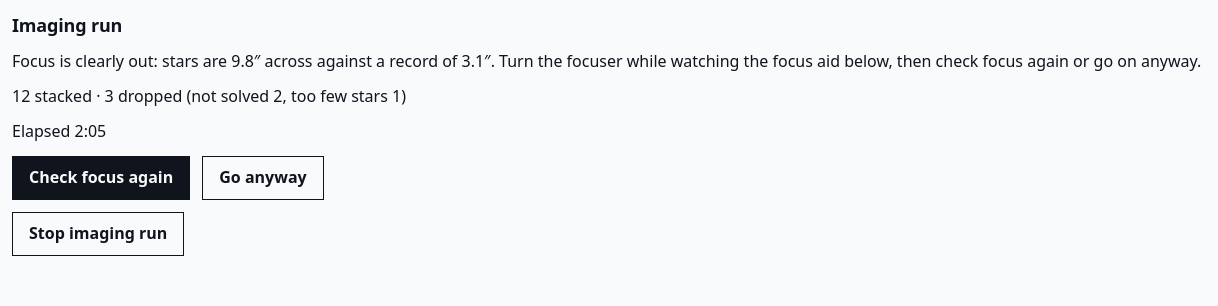
Test: US9-S10: a pause request's own alert and pending buttons › clears refusal when Go anyway starts, disables all buttons and reports no answer in its own words
Later steps or results of the test are not shown.
Click the button "Check focus again". click: (101, 178)
box: top-left (12, 156), bottom-right (190, 200)
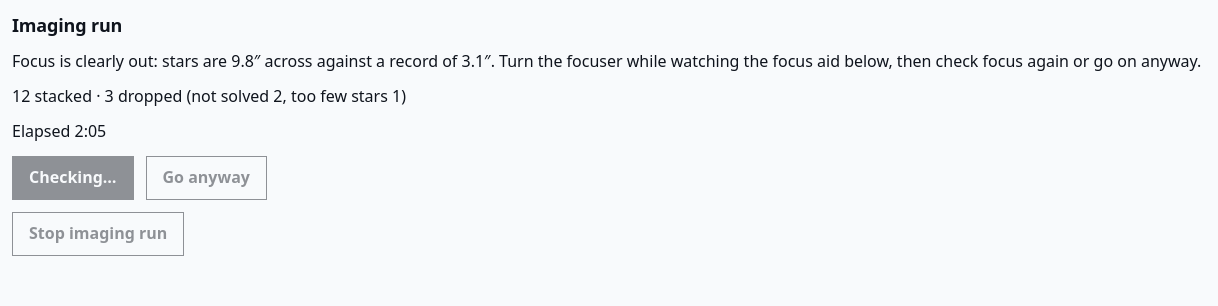
Result: the button "Checking…" is disabled at top-left (12, 156), bottom-right (134, 200)
Result: the button "Go anyway" is disabled
Result: the button "Stop imaging run" is disabled at top-left (12, 212), bottom-right (184, 256)
Click the button "Go anyway". click: (206, 178)
box: top-left (146, 156), bottom-right (267, 200)
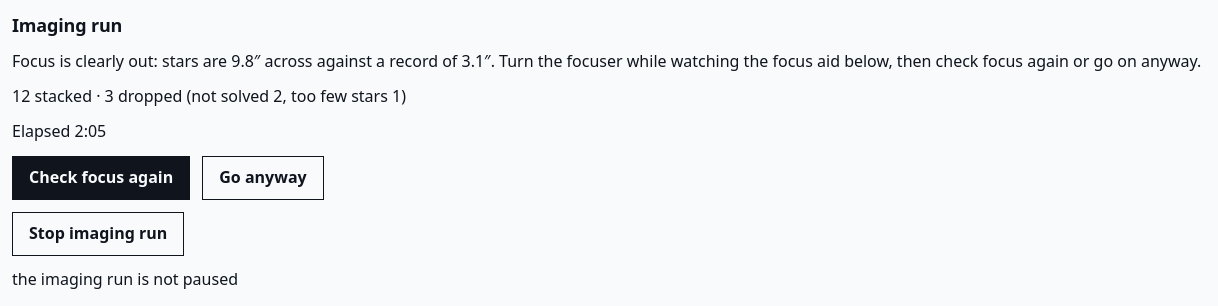
Result: the messages read "Focus is clearly out: stars are 9.8″ across against a record of 3.1″. Turn the focuser while watching the focus aid below, then check focus again or go on anywa", "the imaging run is not paused", in this order at top-left (12, 50), bottom-right (1201, 72); top-left (12, 268), bottom-right (238, 290)
Click the button "Go anyway". click: (263, 178)
box: top-left (202, 156), bottom-right (324, 200)
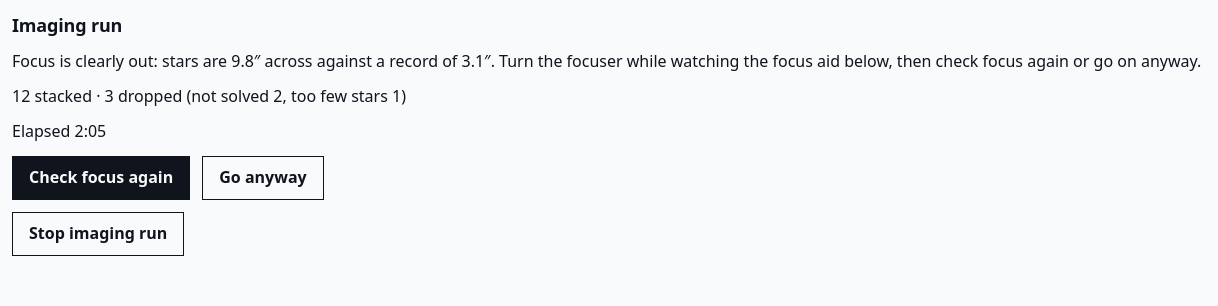
Result: the text "the imaging run is not paused" is gone
Click the button "Check focus again". click: (101, 178)
box: top-left (12, 156), bottom-right (190, 200)
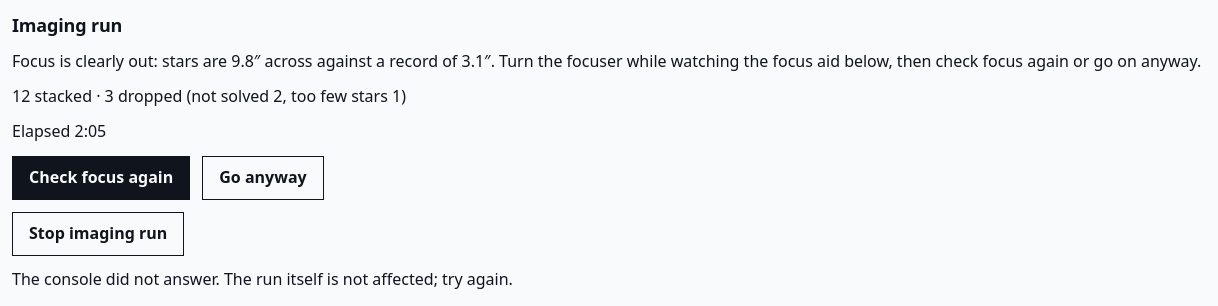
Result: the text "The console did not answer. The run itself is not affected; try again." is shown at top-left (12, 268), bottom-right (513, 290)
Result: the messages read "Focus is clearly out: stars are 9.8″ across against a record of 3.1″. Turn the focuser while watching the focus aid below, then check focus again or go on anywa", "The console did not answer. The run itself is not affected; try again.", in this order at top-left (12, 50), bottom-right (1201, 72); top-left (12, 268), bottom-right (513, 290)
